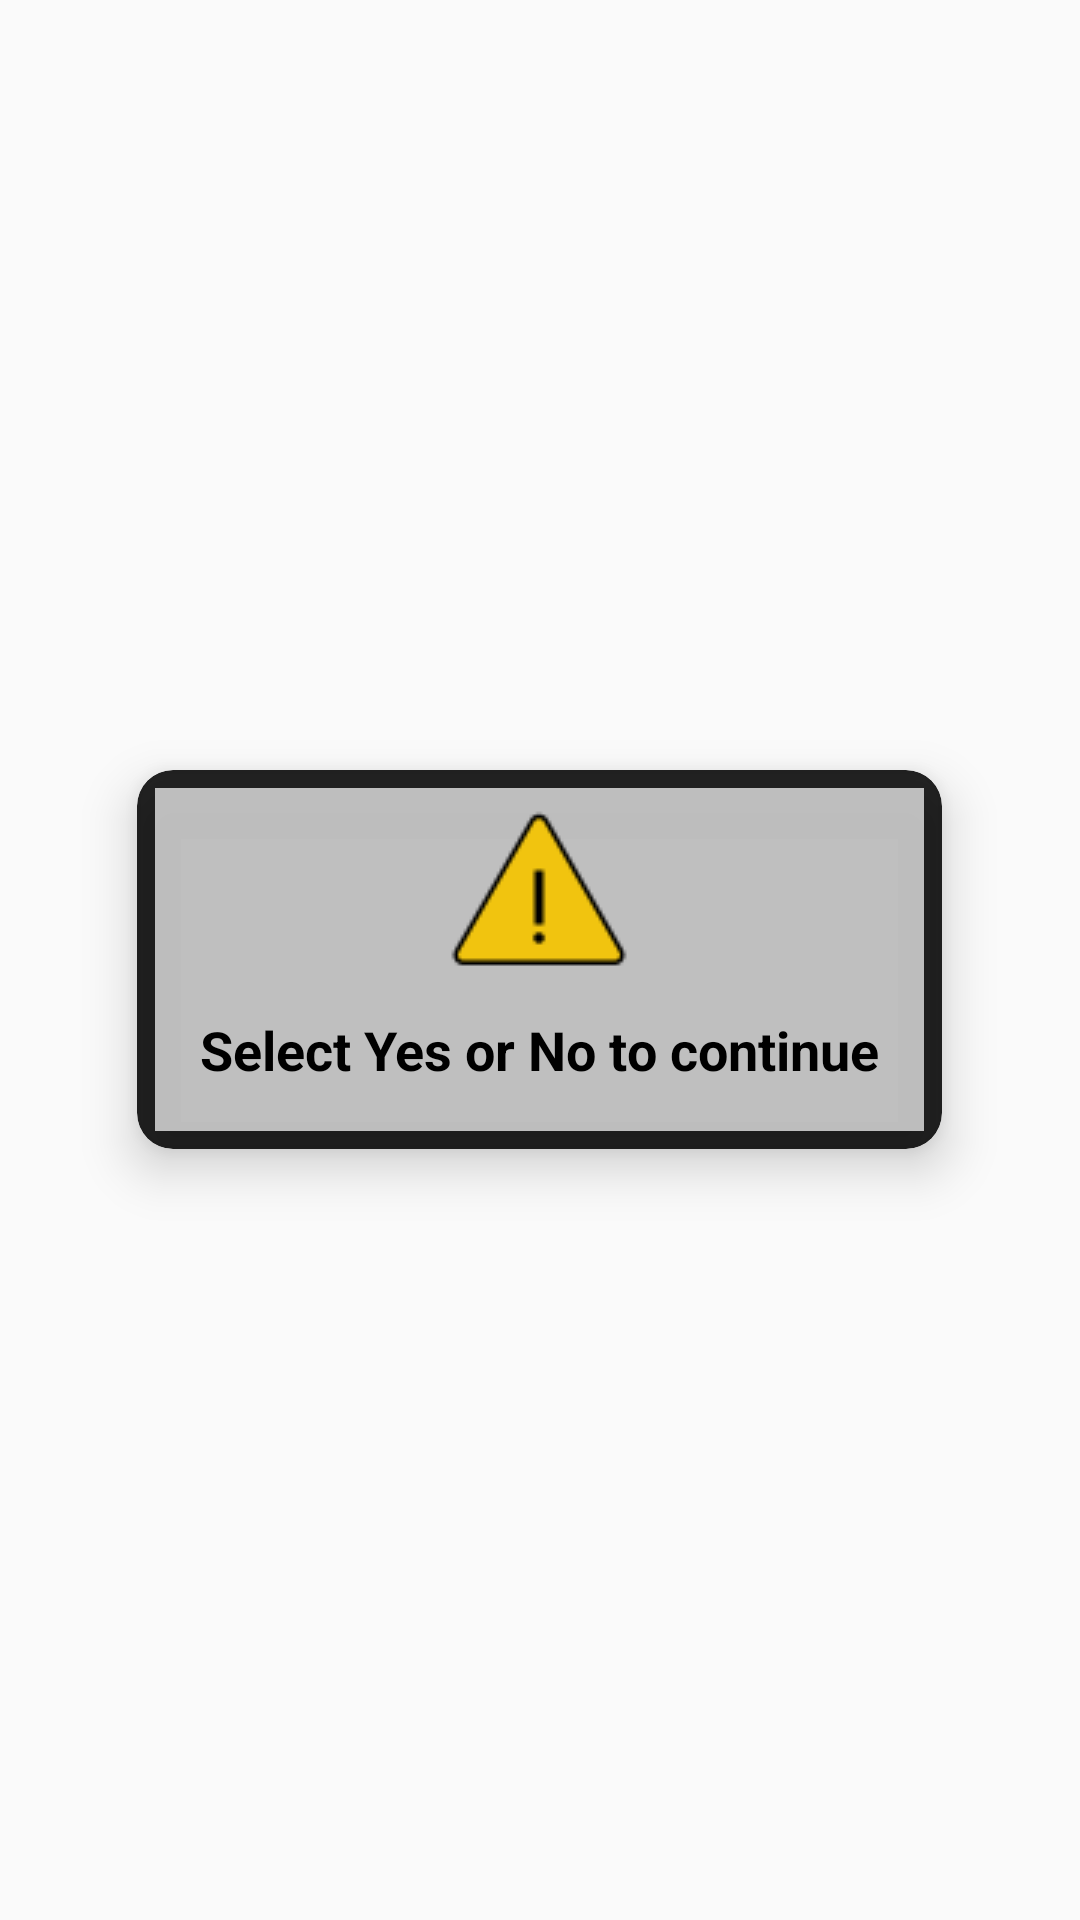

Icons on this 1080 × 1920 Android screen, each with its box as detection(x1, y1, x2, y2):
error: detection(451, 812, 627, 966)
